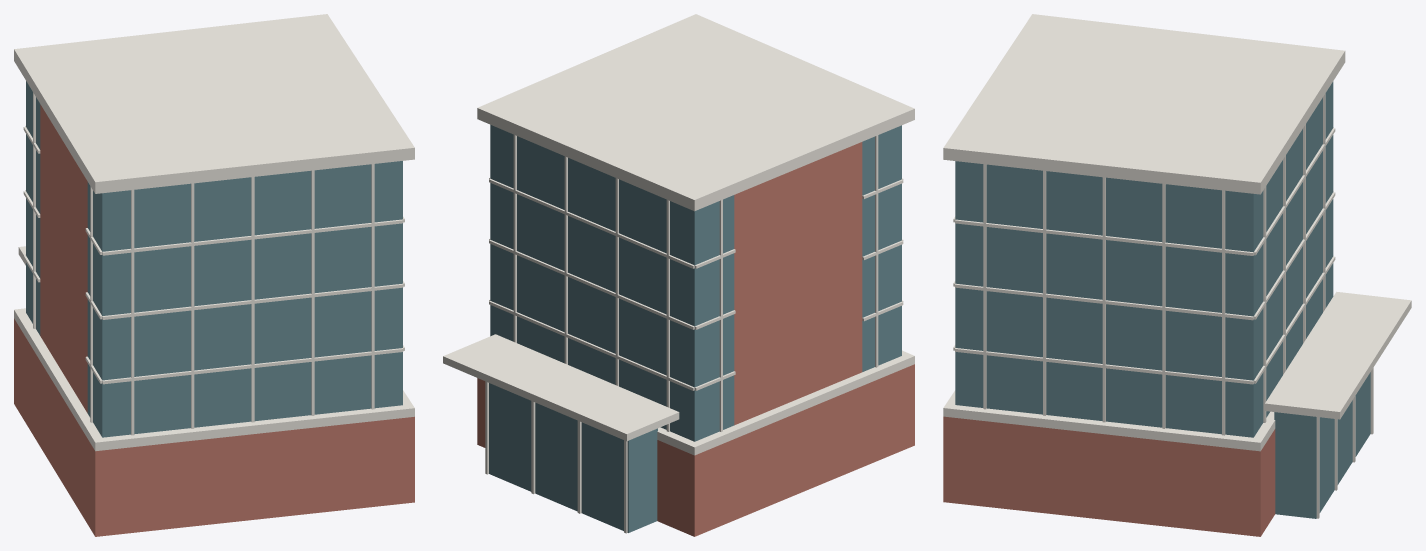
The model's file is hoi.glb.
3 renders of one model, left to right at view 1: azimuth 30°, elevation 25°; view 2: azimuth 150°, elevation 25°; view 3: azimuth 270°, elevation 25°, orthographic. The views are drawn at different scales.
Visible parts, largest first — view 1: HOI_glass, HOI_roof_slab, HOI_podium, HOI_core, HOI_band, DETAIL_window_batch_HOI_white, HOI_glazing_frame_0_2, HOI_glazing_frame_0_1, HOI_glazing_frame_0_3, HOI_glazing_frame_0_4, HOI_glazing_frame_0_0, HOI_glazing_frame_3_0 (+1 smaller); view 2: HOI_glass, HOI_roof_slab, HOI_core, HOI_podium, HOI_atrium, HOI_canopy, DETAIL_window_batch_HOI_white, HOI_band, HOI_glazing_frame_3_0, HOI_glazing_frame_3_3, HOI_glazing_frame_2_3, HOI_glazing_frame_2_2 (+2 smaller); view 3: HOI_glass, HOI_roof_slab, HOI_podium, HOI_canopy, HOI_atrium, DETAIL_window_batch_HOI_white, HOI_band, HOI_glazing_frame_1_2, HOI_glazing_frame_1_0, HOI_glazing_frame_1_3, HOI_glazing_frame_1_1, HOI_glazing_frame_1_4 (+4 smaller).
Part boxes in pixels (x1,y1,x2,y2): HOI_glass: (26, 81, 402, 437); HOI_roof_slab: (14, 14, 414, 193); HOI_podium: (14, 318, 414, 536); HOI_core: (40, 104, 87, 412); HOI_band: (14, 308, 414, 451); DETAIL_window_batch_HOI_white: (23, 125, 404, 384); HOI_glazing_frame_0_2: (251, 177, 254, 422); HOI_glazing_frame_0_1: (191, 183, 194, 428); HOI_glazing_frame_0_3: (311, 170, 314, 415); HOI_glazing_frame_0_4: (371, 164, 374, 409); HOI_glazing_frame_0_0: (131, 190, 134, 435); HOI_glazing_frame_3_0: (33, 92, 35, 328); HOI_glass: (490, 125, 901, 441); HOI_roof_slab: (477, 14, 914, 211); HOI_core: (734, 142, 862, 425); HOI_podium: (477, 364, 914, 536); HOI_atrium: (489, 383, 657, 532); HOI_canopy: (443, 334, 679, 441); DETAIL_window_batch_HOI_white: (489, 178, 903, 390); HOI_band: (657, 350, 914, 455); HOI_glazing_frame_3_0: (719, 199, 722, 431); HOI_glazing_frame_3_3: (875, 135, 878, 367); HOI_glazing_frame_2_3: (666, 200, 669, 431); HOI_glazing_frame_2_2: (615, 178, 618, 386); HOI_glass: (955, 81, 1333, 437); HOI_roof_slab: (943, 14, 1345, 194); HOI_podium: (943, 416, 1275, 536); HOI_canopy: (1265, 291, 1411, 419); HOI_atrium: (1274, 372, 1370, 518); DETAIL_window_batch_HOI_white: (953, 127, 1335, 384); HOI_band: (943, 390, 1275, 451); HOI_glazing_frame_1_2: (1102, 177, 1105, 422); HOI_glazing_frame_1_0: (983, 164, 986, 409); HOI_glazing_frame_1_3: (1162, 184, 1165, 428); HOI_glazing_frame_1_1: (1043, 170, 1046, 415); HOI_glazing_frame_1_4: (1222, 190, 1225, 435).
Bounding box in the file's own units: 16.92 × 16.55 × 19.83.
